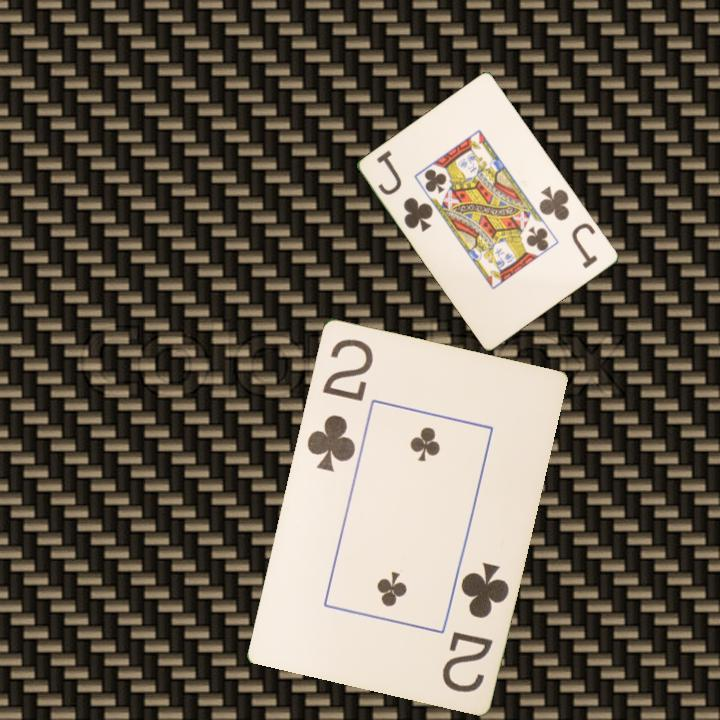2c: (303, 334, 376, 474), (438, 558, 512, 695)
Jc: (536, 182, 601, 271), (373, 146, 437, 235)
